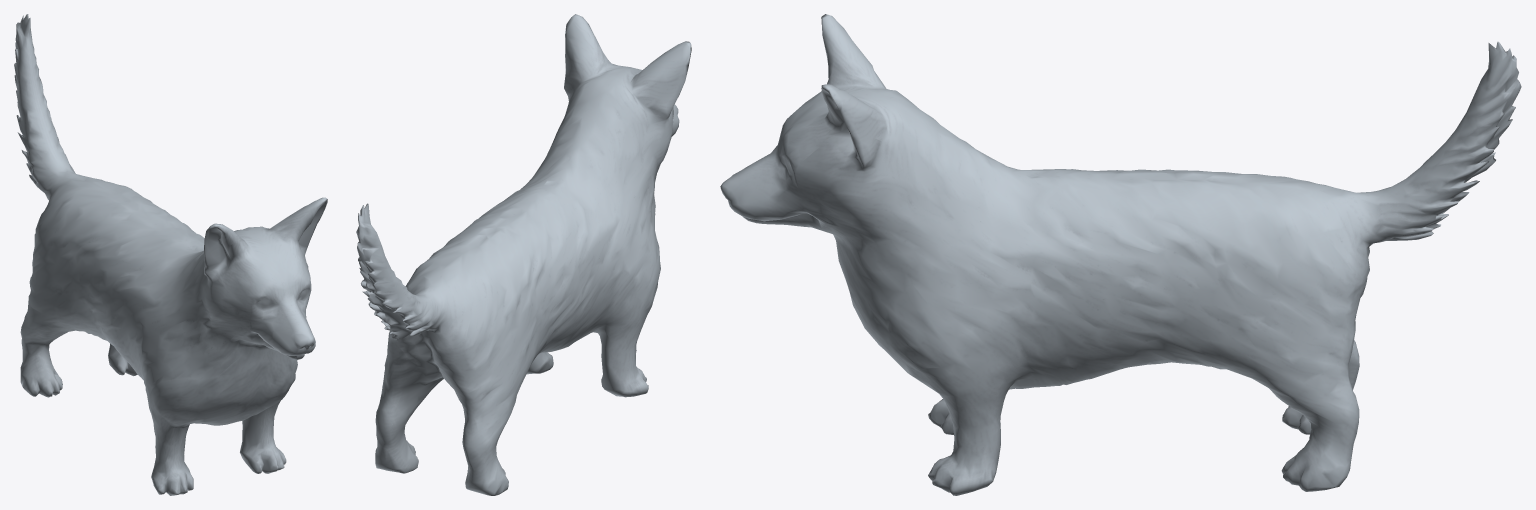
The model's file is corgi.glb.
The picture shows the model from 3 angles, left to right: view 1: azimuth 30°, elevation 25°; view 2: azimuth 150°, elevation 25°; view 3: azimuth 270°, elevation 25°; orthographic projection. The views are drawn at different scales.
Parts seen in each view (by area): view 1: corgi.001; view 2: corgi.001; view 3: corgi.001.
Boxes of the visible parts, bbox=[...] form: corgi.001: bbox=[14, 14, 327, 495]; corgi.001: bbox=[356, 14, 691, 495]; corgi.001: bbox=[720, 14, 1521, 495].
Bounding box in the file's own units: 8.35 × 18.76 × 32.25.
Materials: 1 (1 with a texture image).
